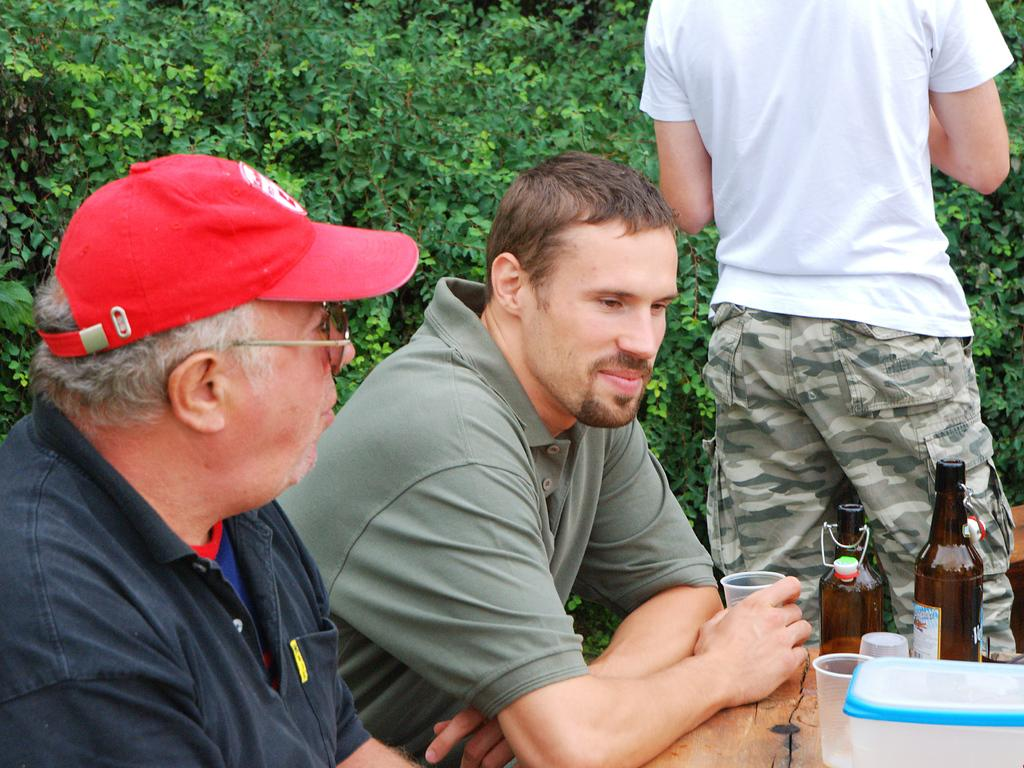Hat: (36, 154, 419, 356)
